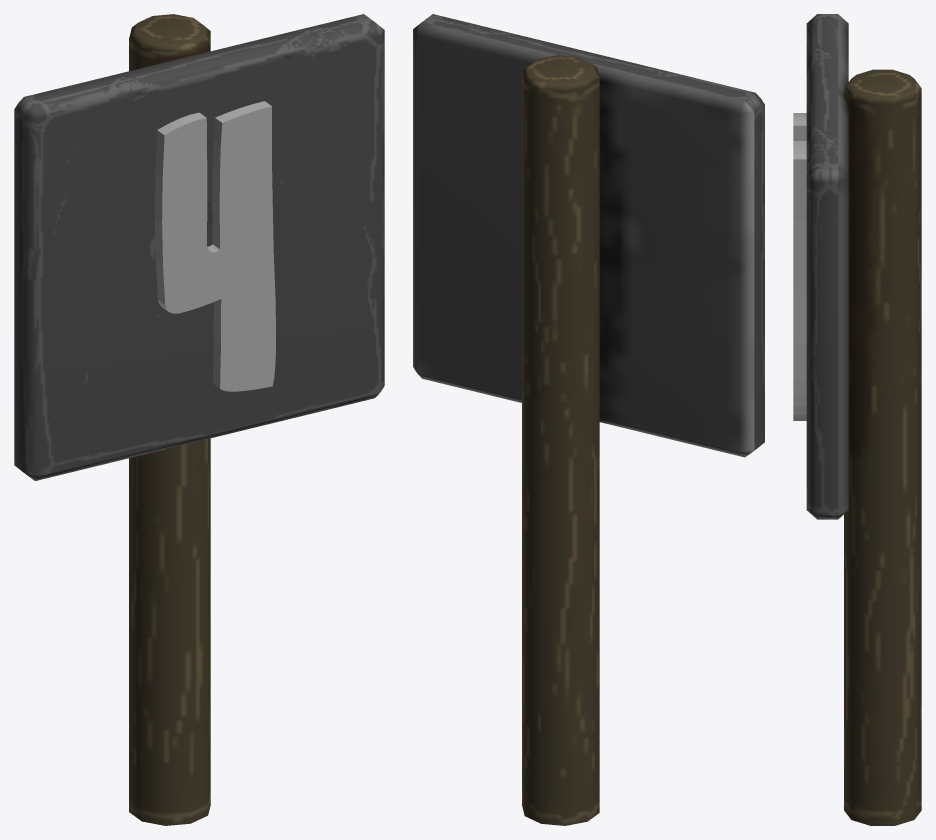
The model's file is sign4.fbx.
3 views of the same model, side by side, from view 1: azimuth 30°, elevation 25°; view 2: azimuth 150°, elevation 25°; view 3: azimuth 270°, elevation 25° (orthographic). The views are drawn at different scales.
Visible parts, largest first — view 1: sign4; view 2: sign4; view 3: sign4.
Part boxes in pixels (x1,y1,x2,y2): sign4: (14,14,384,825); sign4: (413,14,764,825); sign4: (793,14,921,825).
Size of the model in its own units: 1 by 2.07 by 0.3323.
Materials: 1 (1 with a texture image).
